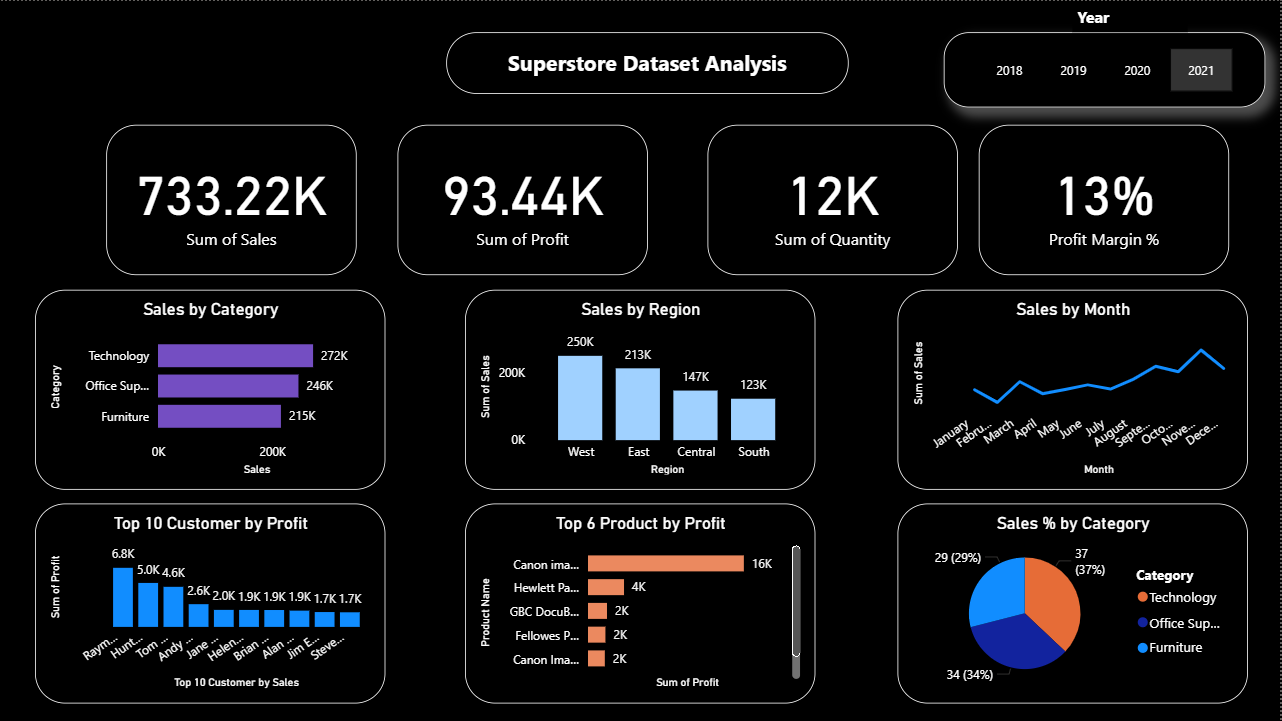

The dashboard page shown, as its layout file describes it:
{"tool":"powerbi","page":{"name":"Page 1","canvas":[1280,720],"ordinal":0},"visuals":[{"type":"card","fields":{"Values":["Superstore.Sales"]},"box":[106.2,123.8,250,150],"z":0},{"type":"card","fields":{"Values":["Superstore.Profit"]},"box":[397.5,123.8,250,150],"z":1000},{"type":"card","fields":{"Values":["Superstore.Quantity"]},"box":[707.5,123.8,250,150],"z":2000},{"type":"clusteredColumnChart","title":"Sales by Region","fields":{"Category":["Superstore.Region"],"Y":["Superstore.Sales"]},"box":[465,288.8,350,200],"z":3000},{"type":"barChart","title":"Sales by Category","fields":{"Category":["Superstore.Category"],"Y":["Superstore.Sales"]},"box":[35,288.8,350,200],"z":4000},{"type":"slicer","fields":{"Values":["Superstore.Order Date.Variation.Date Hierarchy.Year"]},"box":[943.8,31.2,321.2,75],"z":5000},{"type":"lineChart","title":"Sales by Month","fields":{"Y":["Superstore.Sales"],"Category":["Superstore.Order Date.Variation.Date Hierarchy.Month"]},"box":[897.5,288.8,350,200],"z":6000},{"type":"columnChart","title":"Top 10 Customer by Profit","fields":{"Category":["Superstore.Customer Name"],"Y":["Superstore.Profit"]},"box":[35,502.5,350,200],"z":7000},{"type":"clusteredBarChart","title":"Top 6 Product by Profit","fields":{"Category":["Superstore.Product Name"],"Y":["Superstore.Profit"]},"box":[465,502.5,350,200],"z":8000},{"type":"pieChart","title":"Sales % by Category","fields":{"Category":["Superstore.Category"],"Y":["Superstore.Category Sales %"]},"box":[897.5,502.5,350,200],"z":9000},{"type":"textbox","box":[446.2,31.2,402.5,61.2],"z":10000},{"type":"card","fields":{"Values":["Superstore.Profit Margin %"]},"box":[978.8,123.8,250,150],"z":11000},{"type":"textbox","box":[1072.5,0,115,31.2],"z":12000}]}

Visuals, with their boxes in screenshot pixels (x1, y1, x2, y2), scaled from the page's 1280x720 canvas onto the 1282x721 screenshot:
card - Superstore.Sales: x1=106, y1=124, x2=357, y2=274
card - Superstore.Profit: x1=398, y1=124, x2=649, y2=274
card - Superstore.Quantity: x1=709, y1=124, x2=959, y2=274
"Sales by Region" clusteredColumnChart: x1=466, y1=289, x2=816, y2=489
"Sales by Category" barChart: x1=35, y1=289, x2=386, y2=489
slicer - Superstore.Order Date.Variation.Date Hierarchy.Year: x1=945, y1=31, x2=1267, y2=106
"Sales by Month" lineChart: x1=899, y1=289, x2=1249, y2=489
"Top 10 Customer by Profit" columnChart: x1=35, y1=503, x2=386, y2=703
"Top 6 Product by Profit" clusteredBarChart: x1=466, y1=503, x2=816, y2=703
"Sales % by Category" pieChart: x1=899, y1=503, x2=1249, y2=703
textbox: x1=447, y1=31, x2=850, y2=93
card - Superstore.Profit Margin %: x1=980, y1=124, x2=1231, y2=274
textbox: x1=1074, y1=0, x2=1189, y2=31
